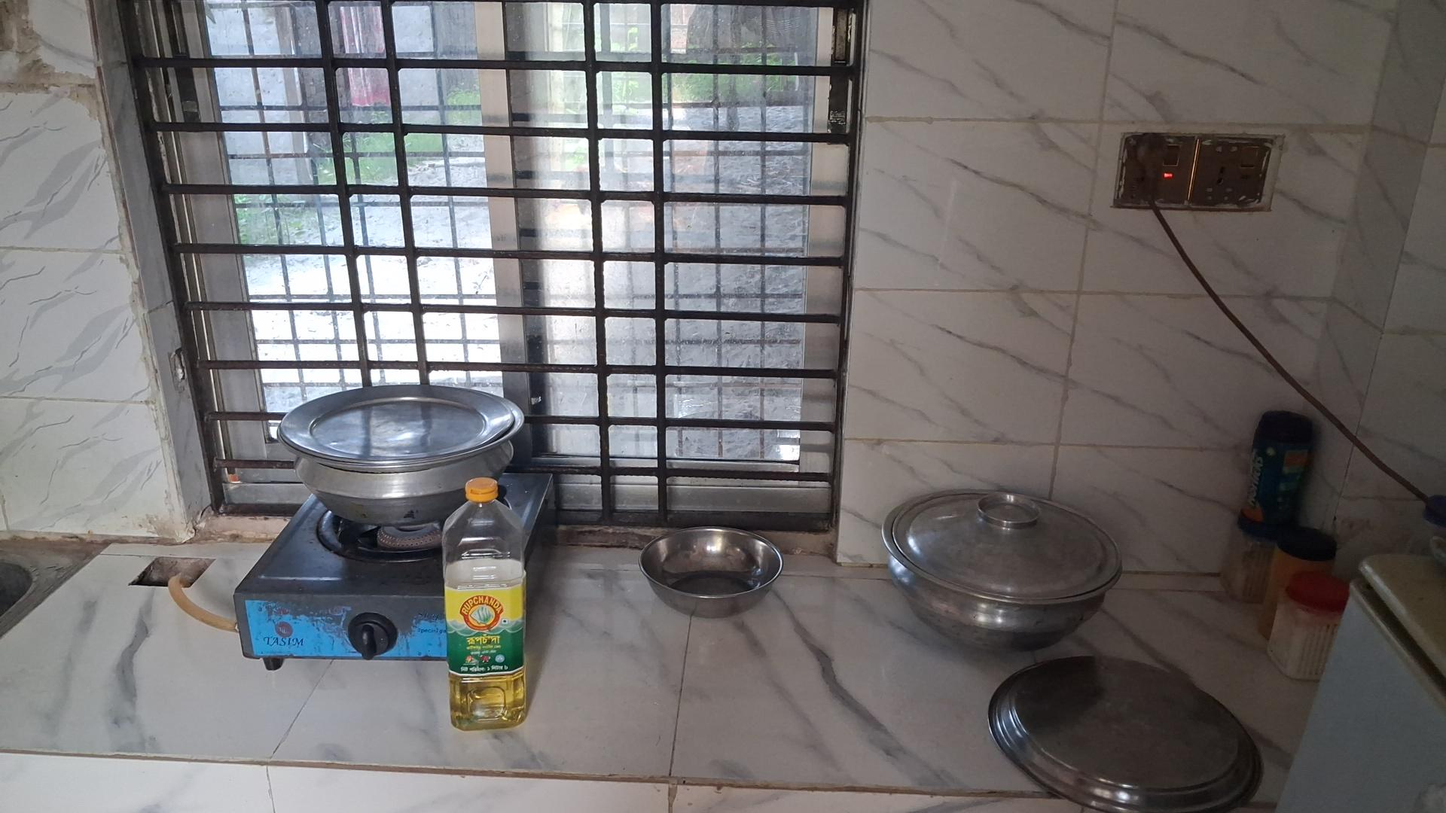Bottle: (441, 476, 528, 732)
Bowl: (639, 527, 783, 618)
Jar: (1239, 406, 1323, 544), (1266, 568, 1352, 674)
Plate: (984, 652, 1262, 813)
Pot: (882, 487, 1122, 652), (273, 389, 524, 527)
Window: (113, 5, 860, 564)
